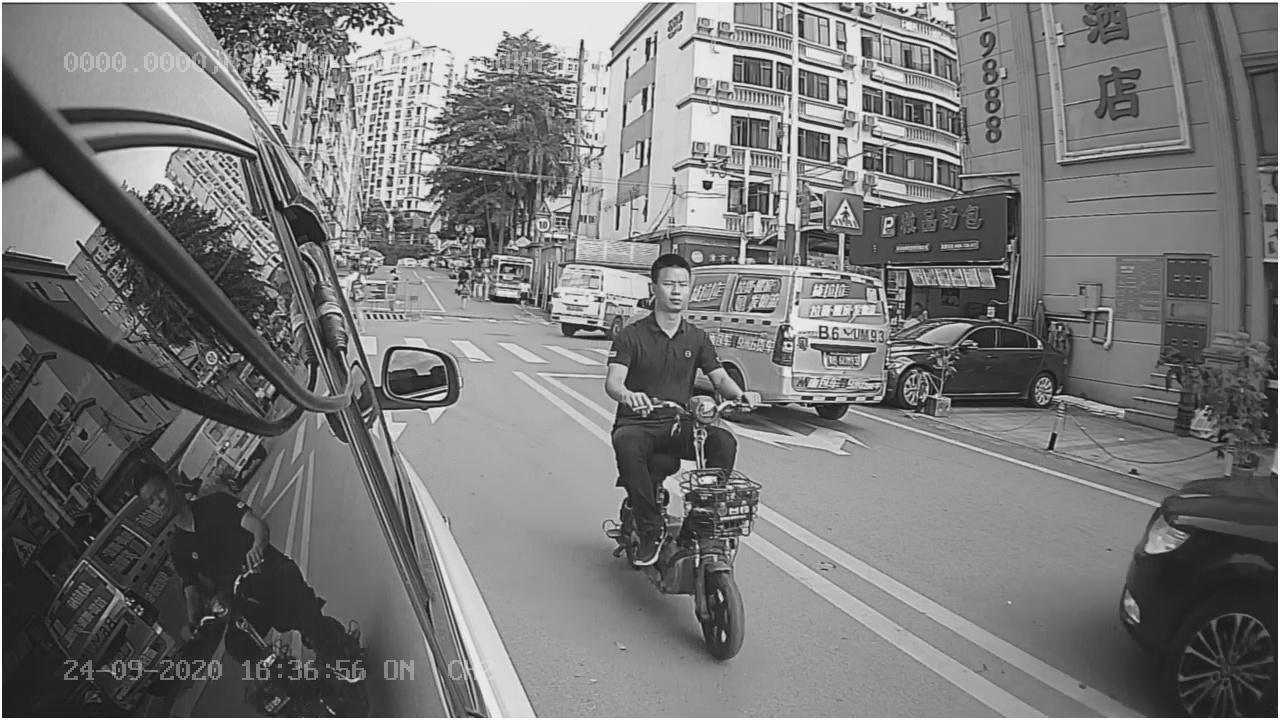person: (569, 254, 786, 669)
